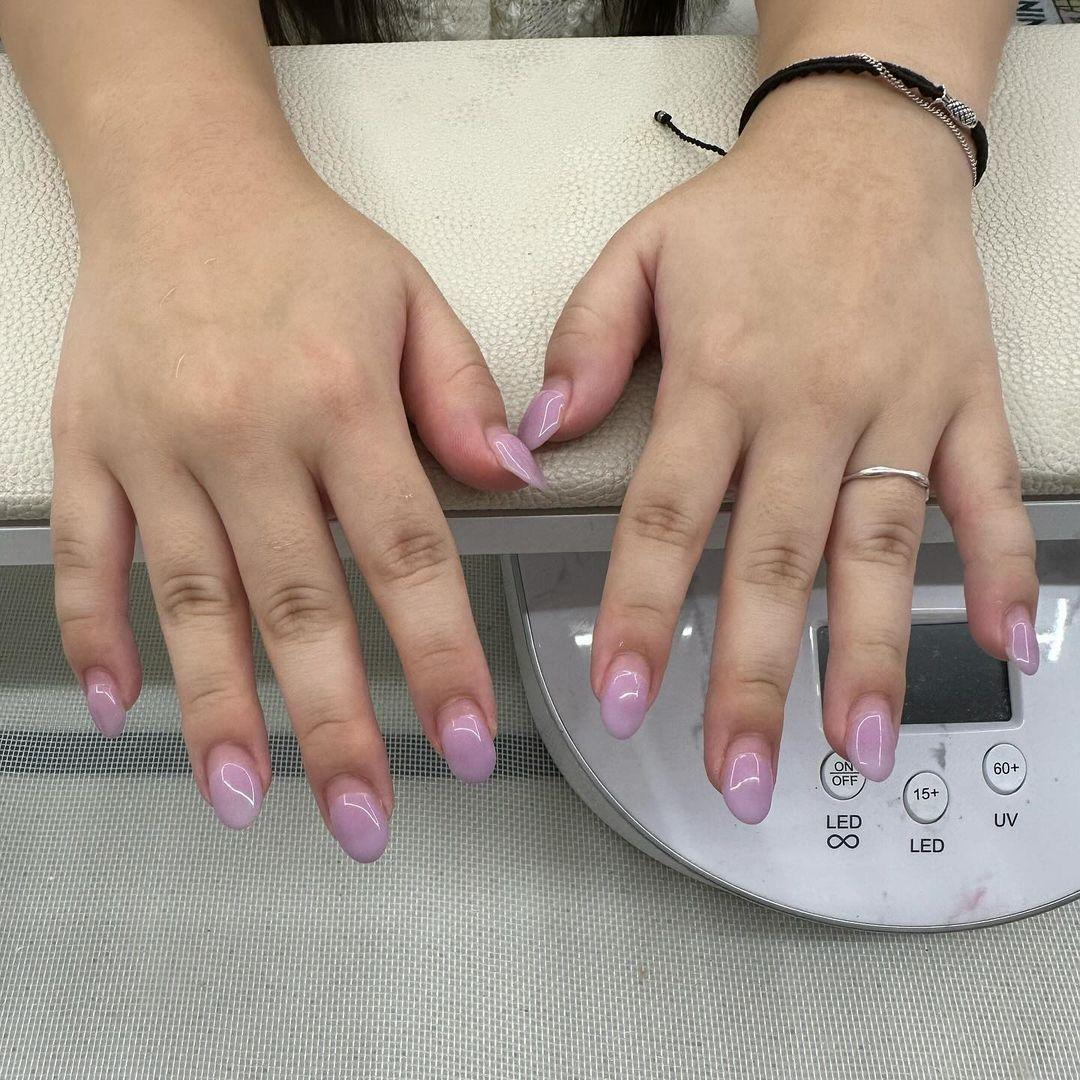nail: (324, 772, 389, 863), (435, 696, 496, 783), (719, 732, 774, 824), (205, 740, 261, 828), (843, 693, 896, 781), (599, 650, 651, 739), (487, 427, 548, 492), (82, 664, 126, 738), (517, 387, 565, 450), (1006, 617, 1039, 674)
